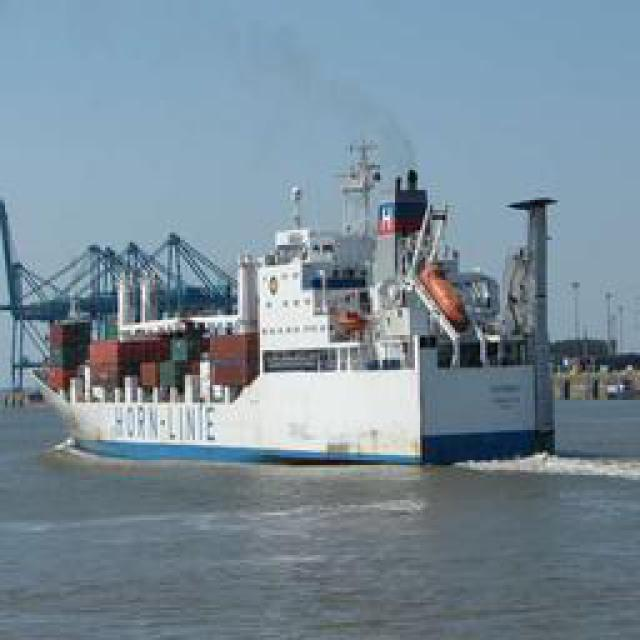Ship: (46, 127, 559, 477)
